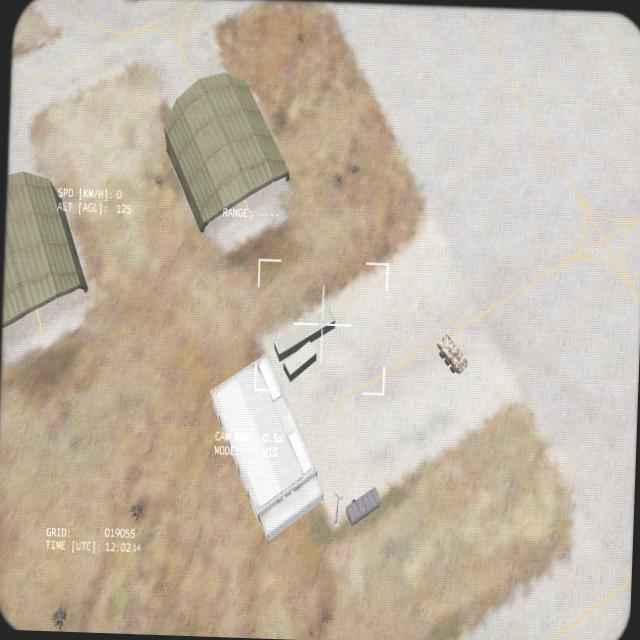apc: (434, 332, 468, 374)
